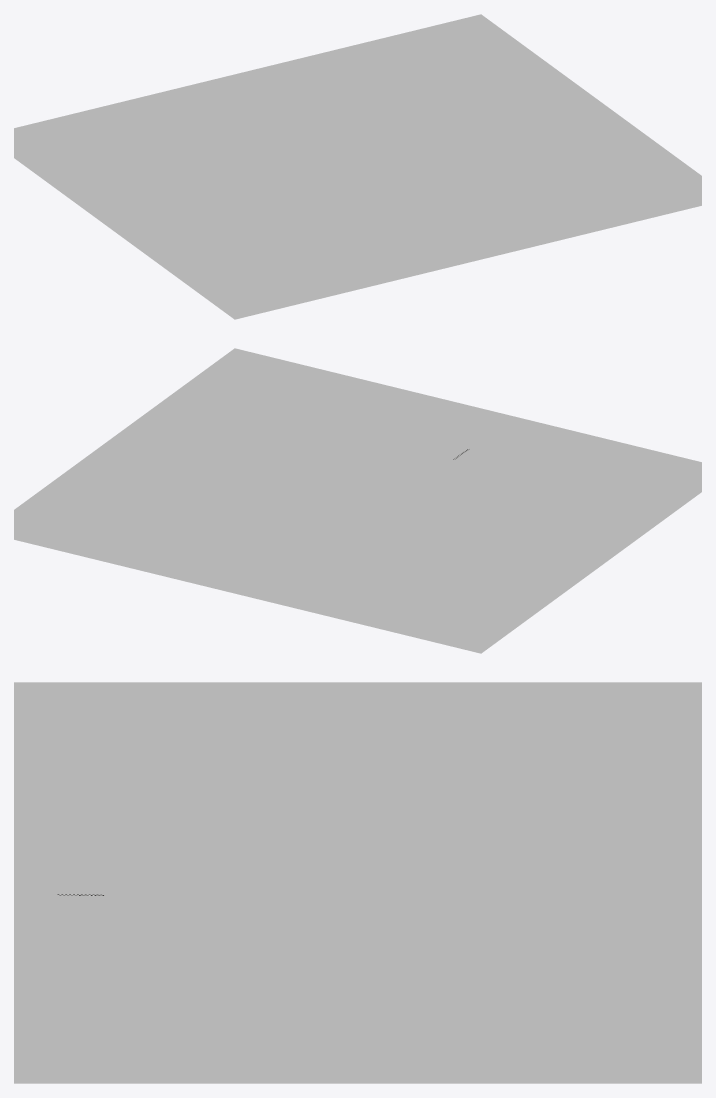
File: 2022_may_pro_ccw.dae
3 renders of one model, top to bottom at view 1: azimuth 30°, elevation 25°; view 2: azimuth 150°, elevation 25°; view 3: azimuth 270°, elevation 25°, orthographic. The views are drawn at different scales.
Parts seen in each view (by area): view 1: field, wall, road, ol, il, cl; view 2: field, wall, road, ol, il, cl; view 3: field, wall, road, ol, il, cl.
Boxes of the visible parts, bbox=[...] form: field: bbox=[45, 44, 670, 289]; wall: bbox=[14, 14, 701, 319]; road: bbox=[127, 80, 621, 288]; ol: bbox=[157, 92, 591, 281]; il: bbox=[125, 79, 624, 289]; cl: bbox=[142, 86, 606, 285]; field: bbox=[45, 378, 670, 623]; wall: bbox=[14, 348, 701, 653]; road: bbox=[110, 415, 637, 592]; ol: bbox=[140, 427, 607, 580]; il: bbox=[108, 414, 639, 593]; cl: bbox=[125, 421, 622, 585]; field: bbox=[14, 728, 701, 1037]; wall: bbox=[14, 682, 701, 1083]; road: bbox=[57, 746, 658, 1037]; ol: bbox=[104, 766, 611, 1037]; il: bbox=[53, 745, 662, 1037]; cl: bbox=[80, 756, 635, 1037].
Bounding box in the file's own units: 16.38 × 13.41 × 1.
